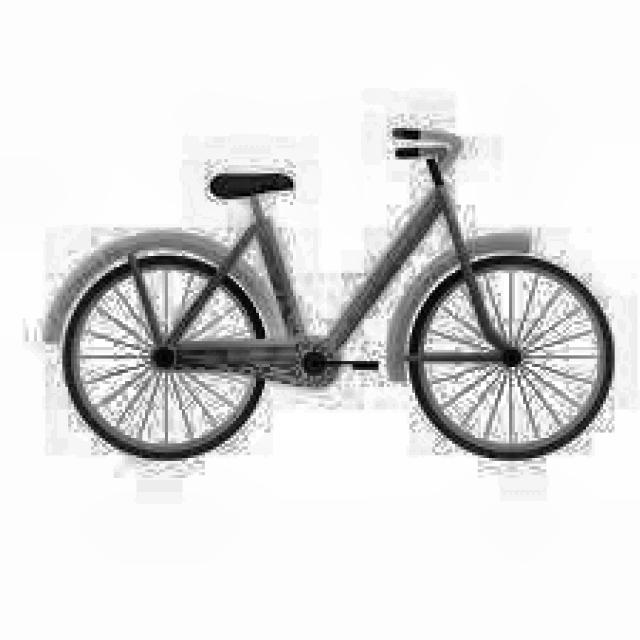bicycle: (40, 124, 623, 463)
